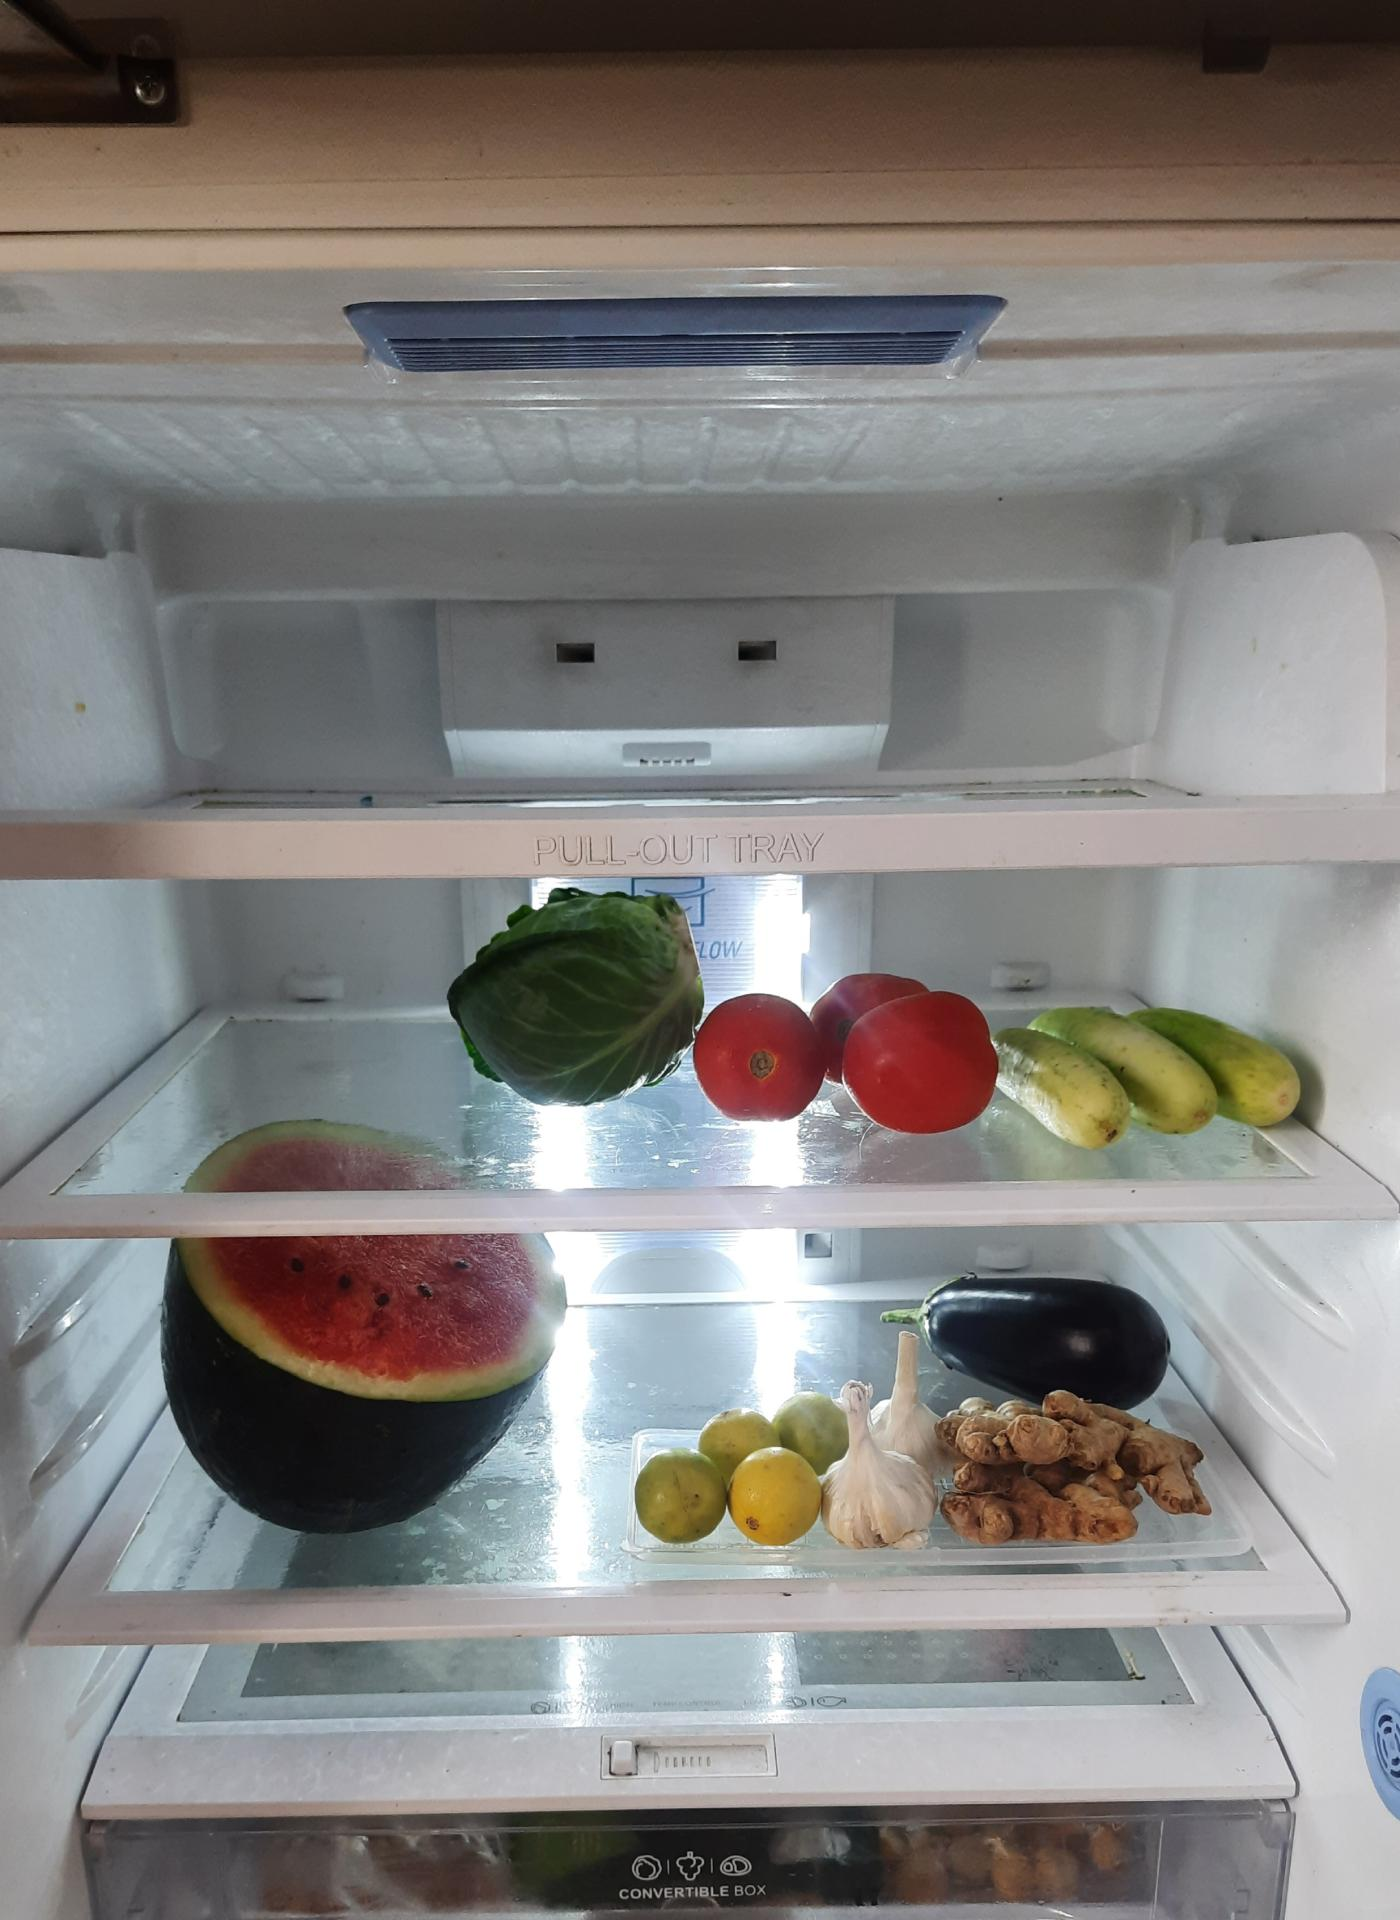brinjal: (877, 1272, 1175, 1403)
cabbage: (447, 888, 707, 1096)
carrots: (920, 1376, 1200, 1538)
cucumber: (1009, 996, 1317, 1151)
garlic: (826, 1349, 927, 1555)
lemon: (638, 1389, 844, 1550)
tomato: (692, 969, 993, 1137)
watermelon: (152, 1112, 567, 1525)
